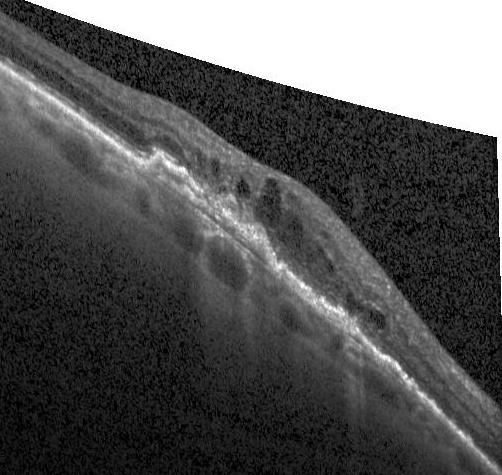intraretinal_cyst: (253, 178, 281, 228), (278, 207, 301, 252), (344, 292, 363, 316), (368, 308, 386, 329), (237, 179, 250, 199), (210, 162, 221, 177), (326, 261, 335, 276), (287, 191, 297, 201), (217, 186, 226, 195), (197, 152, 202, 166)
subretinal_hyperreflective_material: (141, 152, 419, 391)
